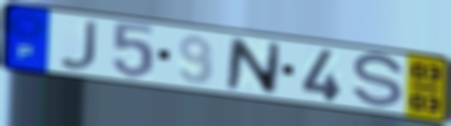4: (299, 46, 346, 104)
5: (110, 21, 157, 82)
9: (176, 33, 218, 86)
J: (55, 19, 101, 72)
N: (223, 36, 284, 97)
S: (350, 52, 407, 111)
